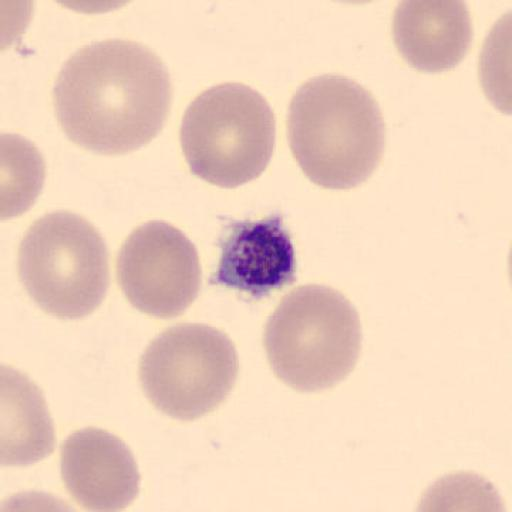Platelet: (205, 210, 301, 302)
RBC: (50, 35, 175, 158), (284, 71, 388, 193), (260, 280, 364, 396), (178, 79, 279, 192), (14, 207, 111, 322), (136, 319, 242, 424), (116, 217, 204, 322), (58, 424, 142, 511), (389, 0, 476, 76), (1, 363, 57, 469), (410, 468, 509, 512), (1, 130, 47, 223), (476, 7, 512, 120), (0, 488, 94, 512), (0, 0, 35, 56), (41, 0, 145, 17), (306, 0, 398, 7)
